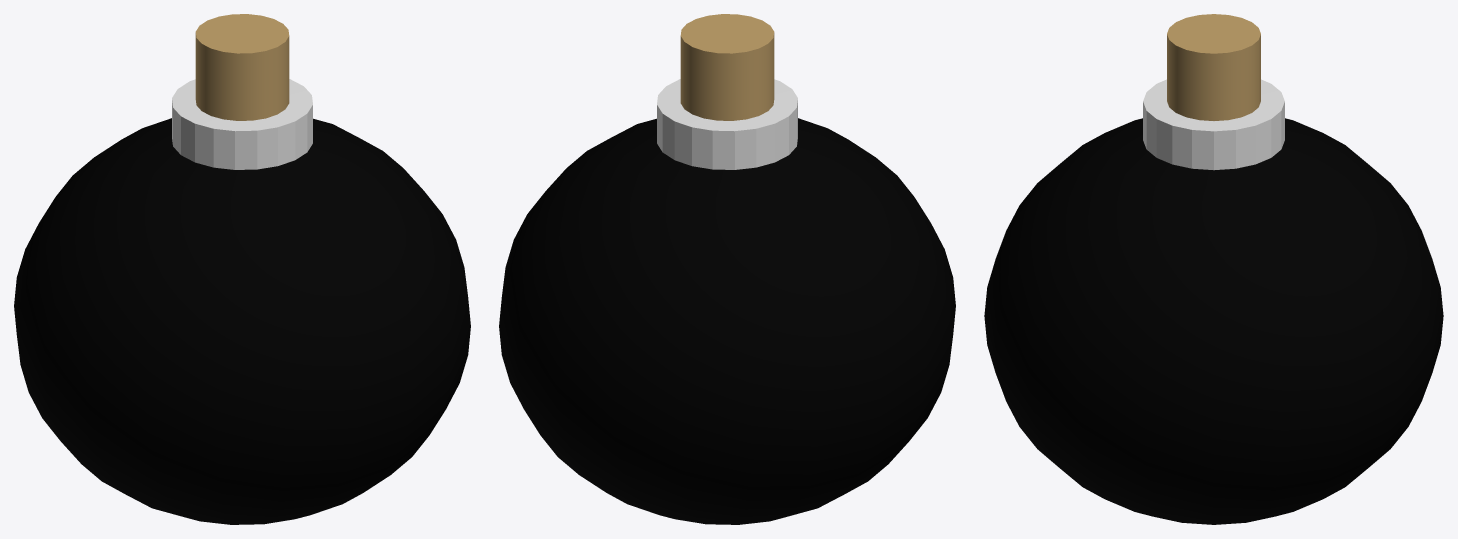
Rendered from Bomb.fbx.
The picture shows the model from 3 angles, left to right: view 1: azimuth 30°, elevation 25°; view 2: azimuth 150°, elevation 25°; view 3: azimuth 270°, elevation 25°; orthographic projection.
Parts seen in each view (by area): view 1: pSphere2; view 2: pSphere2; view 3: pSphere2.
Part boxes in pixels (bbox=[...]): pSphere2: bbox=[14, 14, 470, 524]; pSphere2: bbox=[499, 14, 955, 524]; pSphere2: bbox=[984, 14, 1443, 524].
Bounding box in the file's own units: 0.9 × 1.01 × 0.9.
